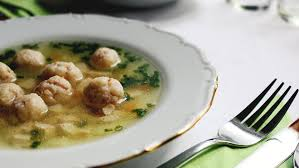bakso: (1, 37, 133, 117)
